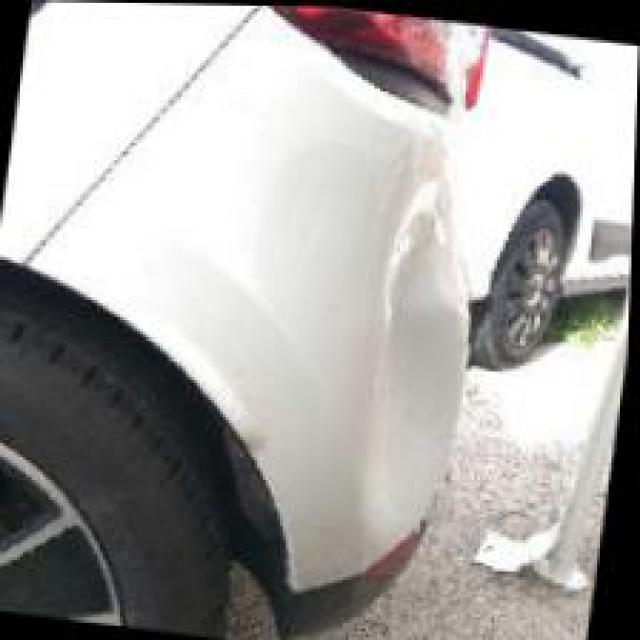car damage: (364, 172, 472, 541)
